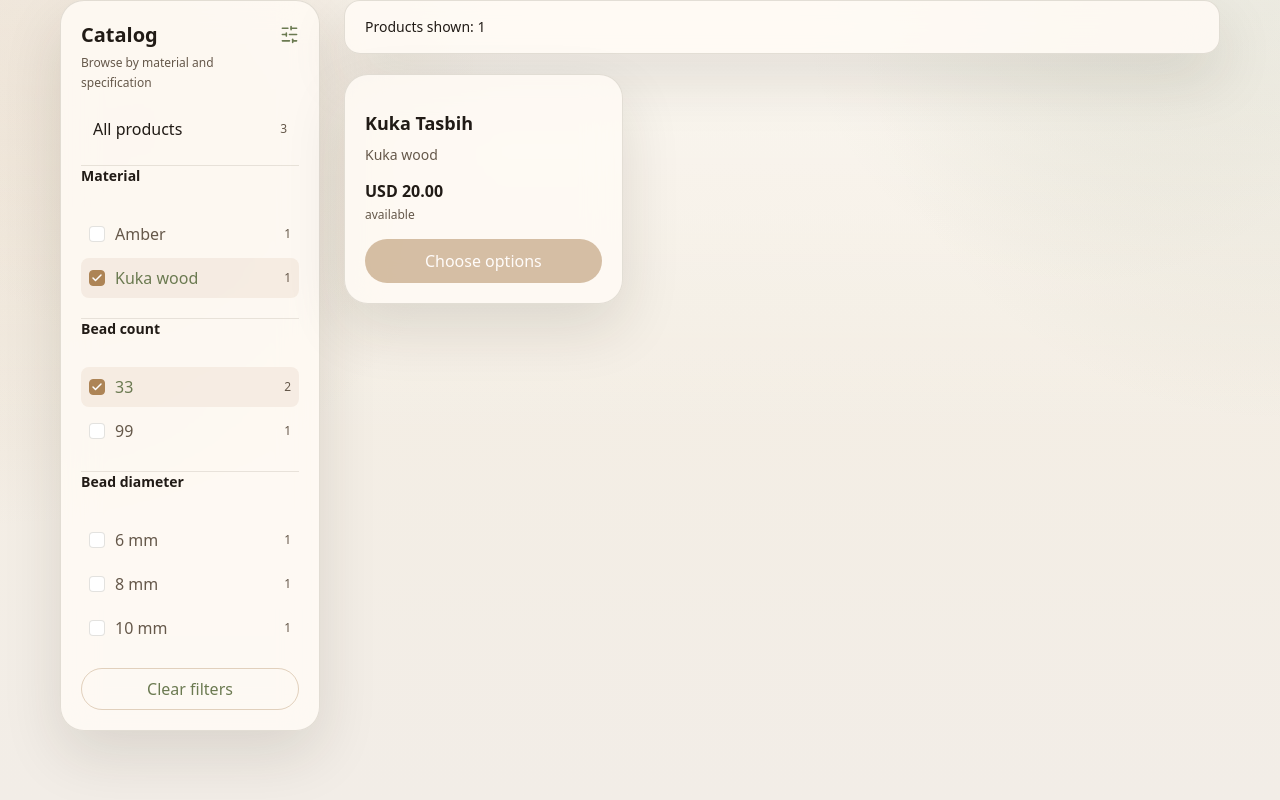
Test case: retail shop category filters › uses AND across facets on a single sellable SKU, clears filters, and does not mutate the cart
expect the heading "Kuka Tasbih" is shown: met, box [365, 111, 473, 135]
expect the heading "Amber Tasbih" is not shown: met
Click the button "6 mm 1".
click(190, 540)  # box [81, 520, 299, 560]
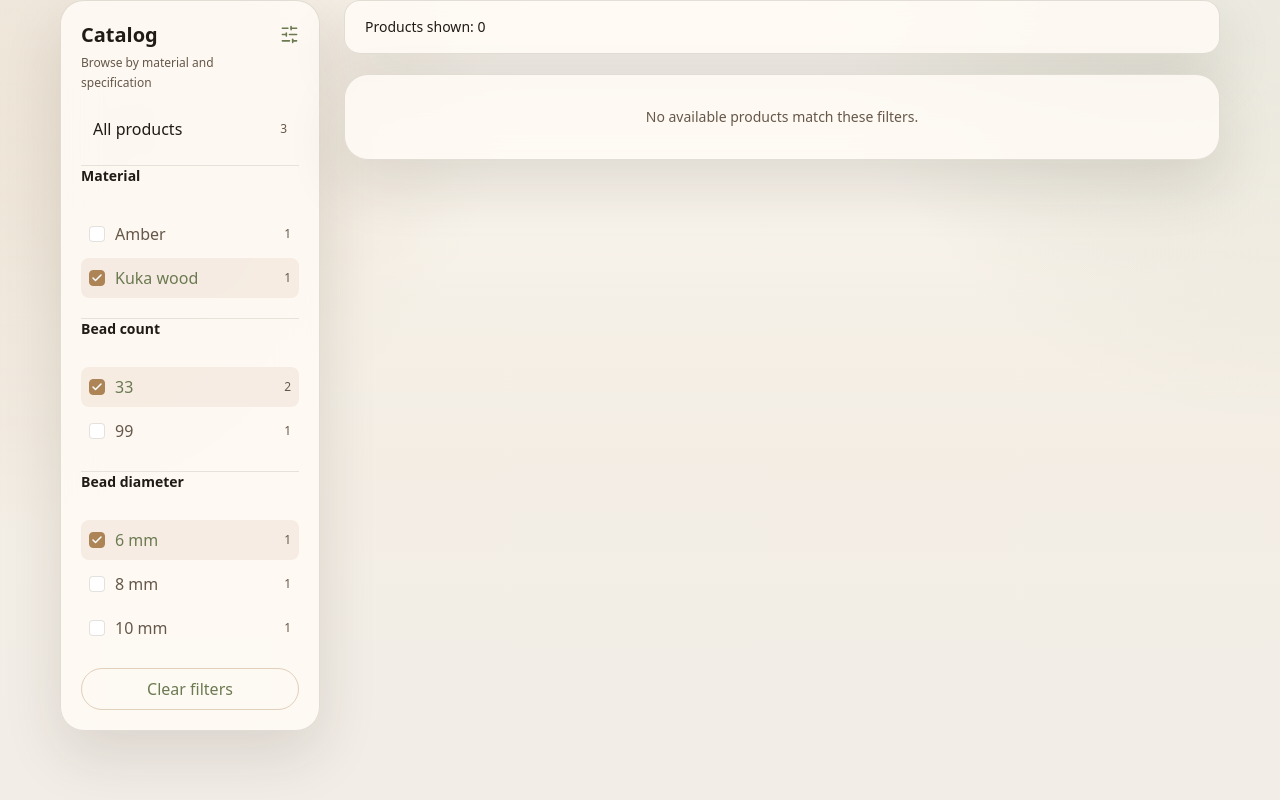
expect the text "No available products match these filters." is shown: met, box [344, 74, 1220, 160]
Click the button "Clear filters".
click(190, 689)  # box [81, 668, 299, 710]
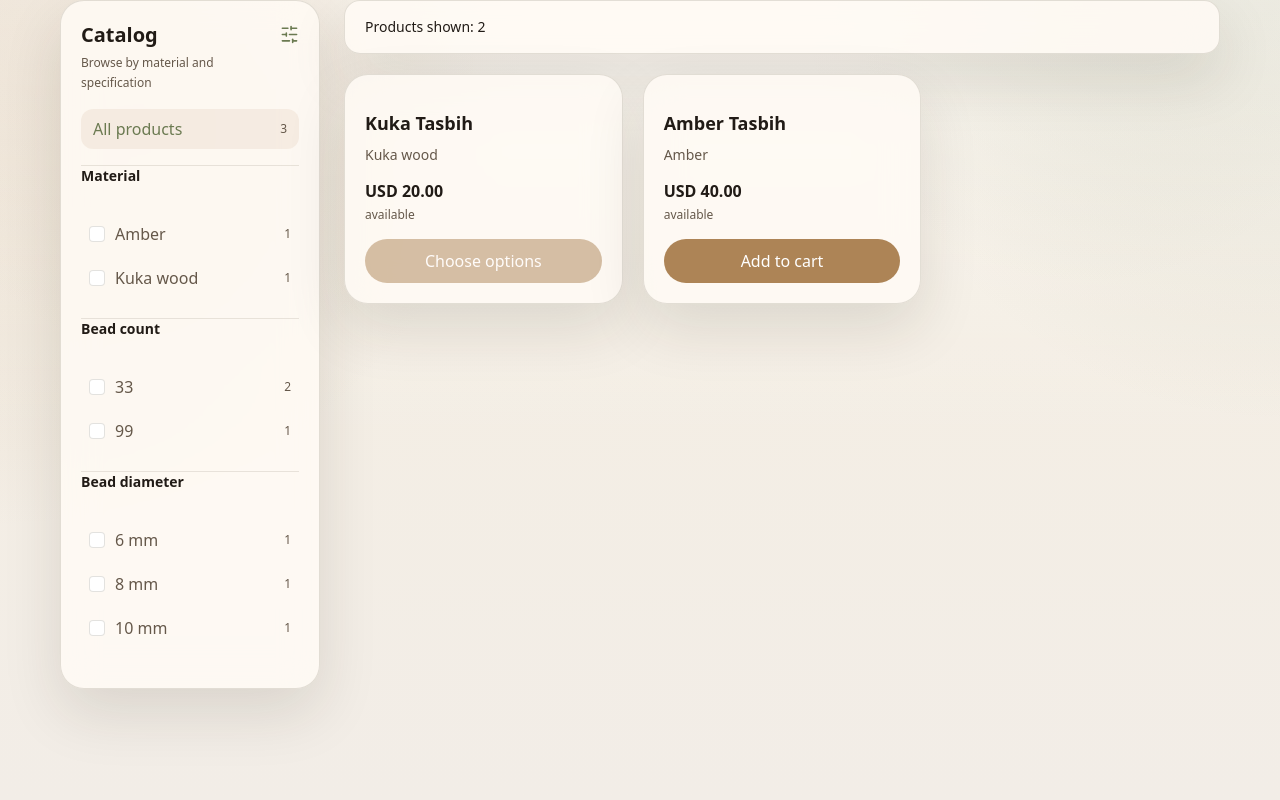
expect the heading "Kuka Tasbih" is shown: met, box [365, 111, 473, 135]
expect the heading "Amber Tasbih" is shown: met, box [664, 111, 786, 135]
